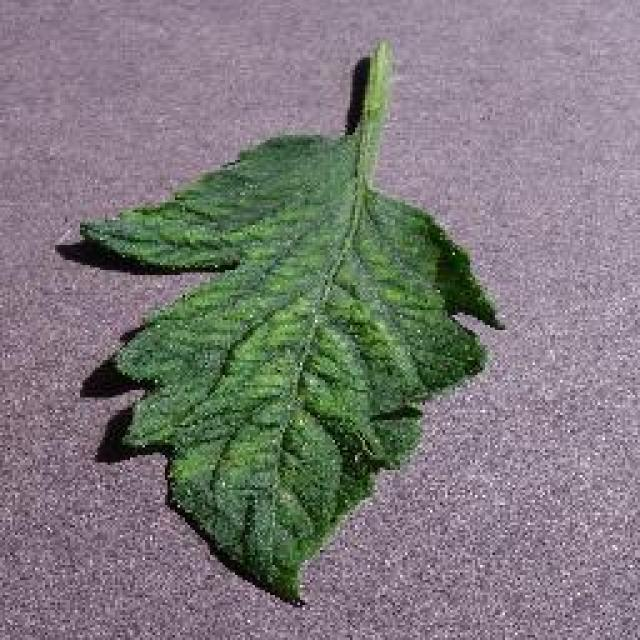Tomato___Tomato_mosaic_virus: (80, 45, 495, 600)
